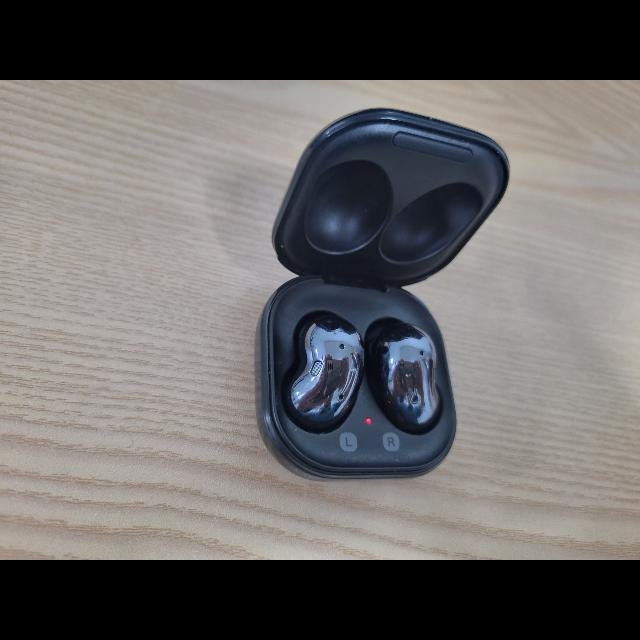buds_live: (254, 105, 514, 485)
